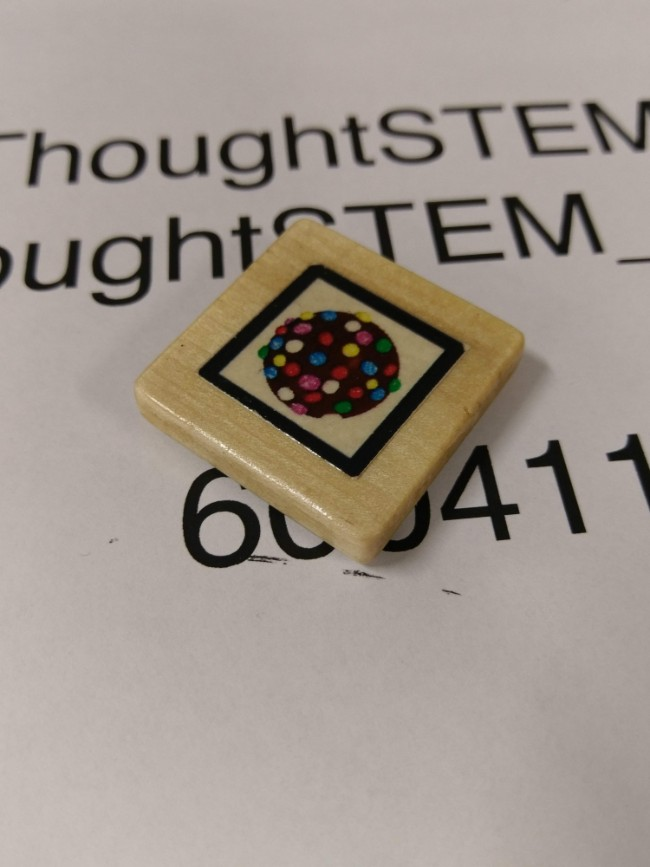cookie: (226, 263, 458, 483)
